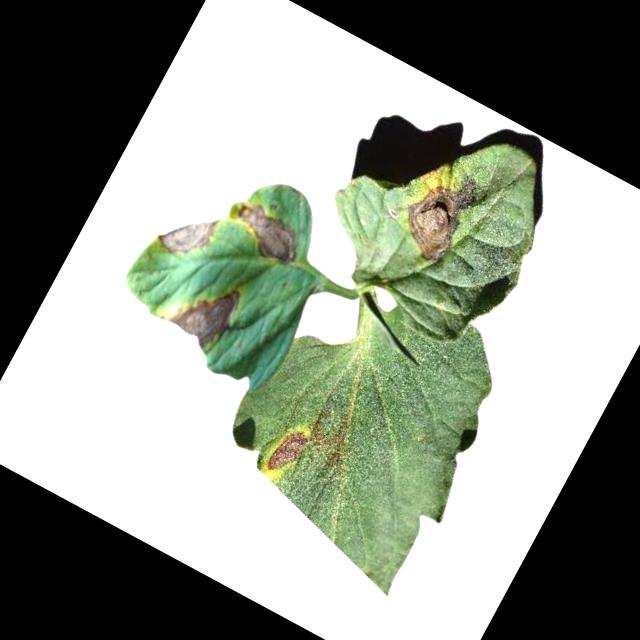Early_blight: (387, 159, 489, 272), (220, 194, 310, 272), (164, 270, 245, 356), (152, 198, 221, 267), (262, 421, 312, 480)
